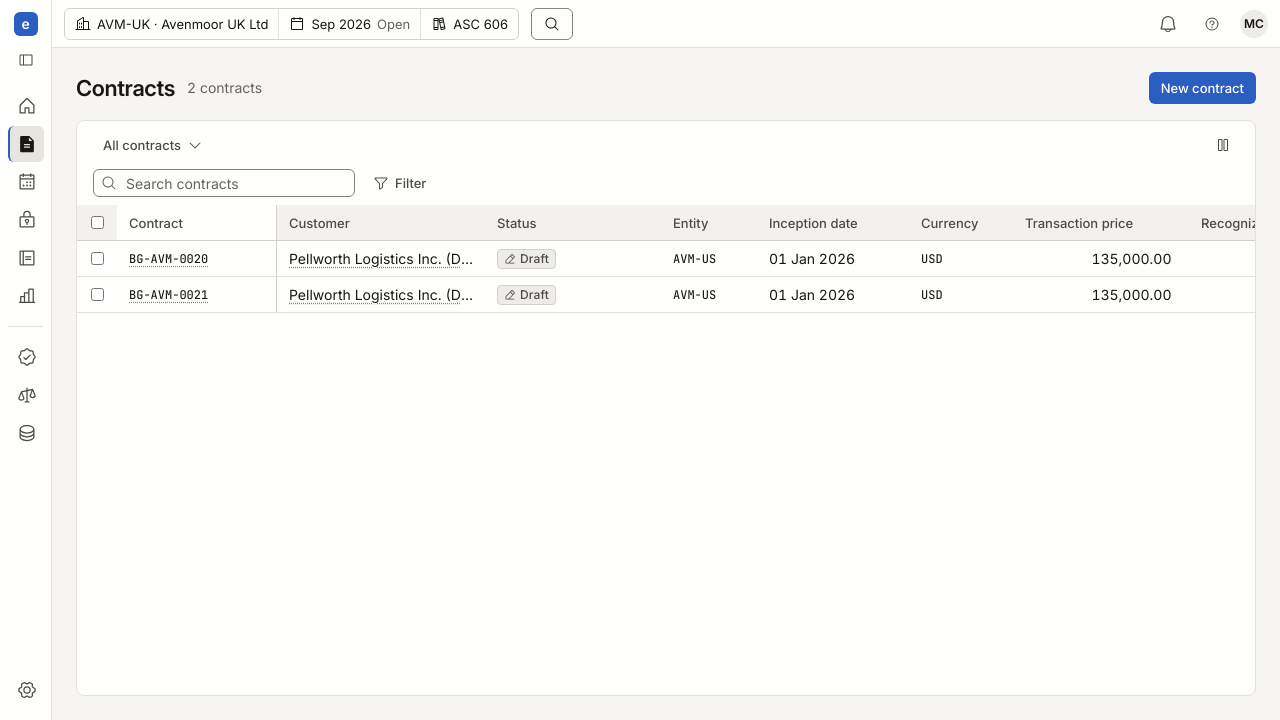
Test: SF-02 contracts list › a bulk command that gets no answer goes out under the same key when the action is run again
The width and height of the screenshot is (1280, 720).
Click the checkbox named "Select loaded rows" at (97, 222), box x1=90 y1=216 x2=104 y2=229
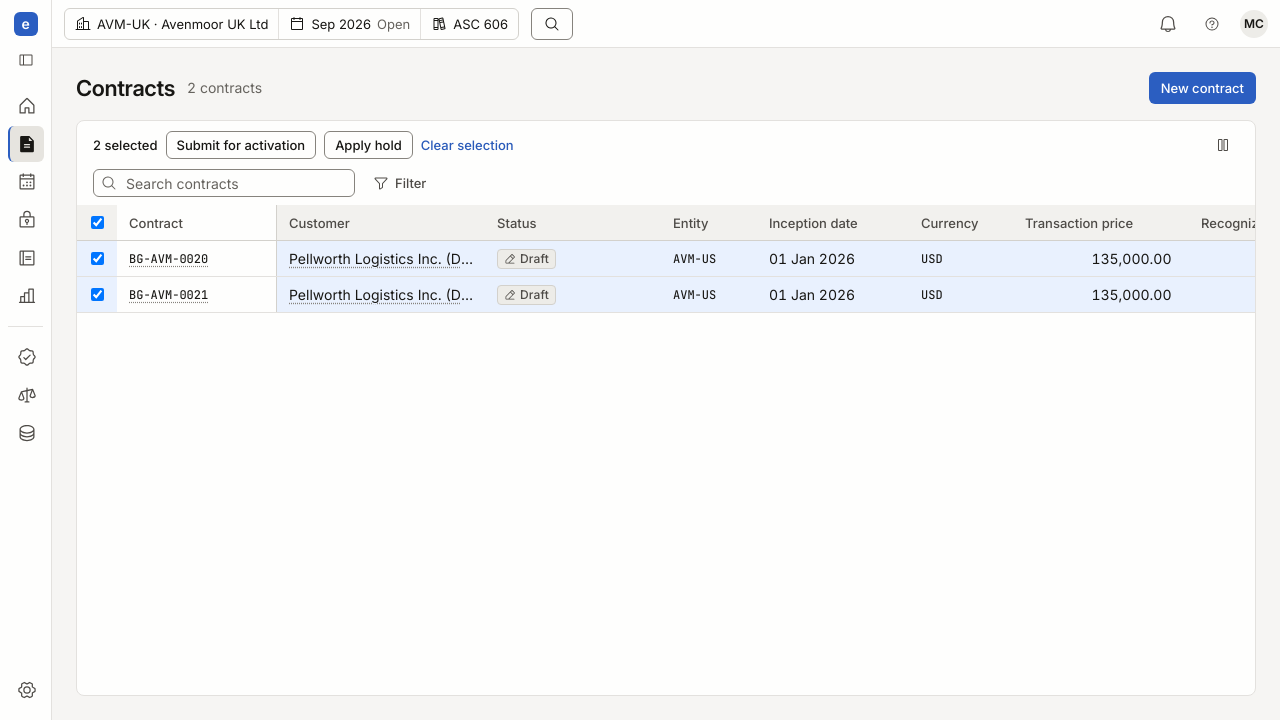
Click the button "Submit for activation" at (241, 145), box x1=166 y1=131 x2=316 y2=159
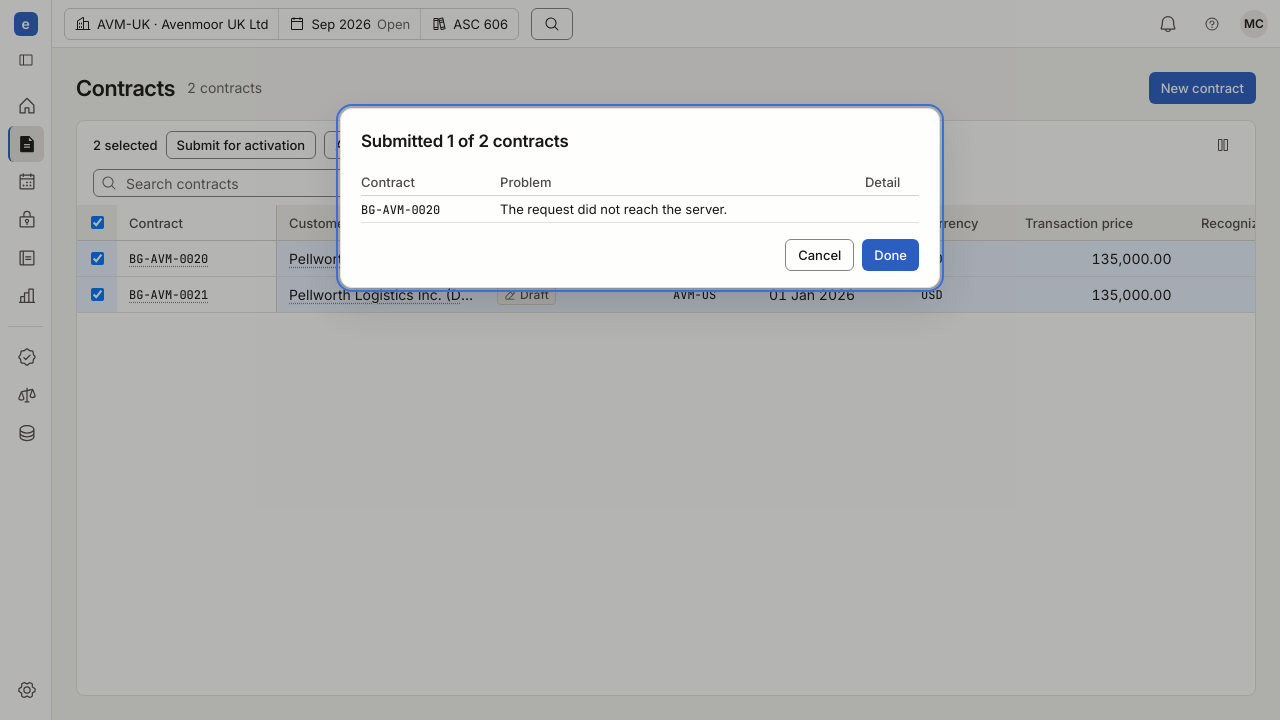
Click the button "Done" at (891, 255), box x1=862 y1=239 x2=919 y2=271
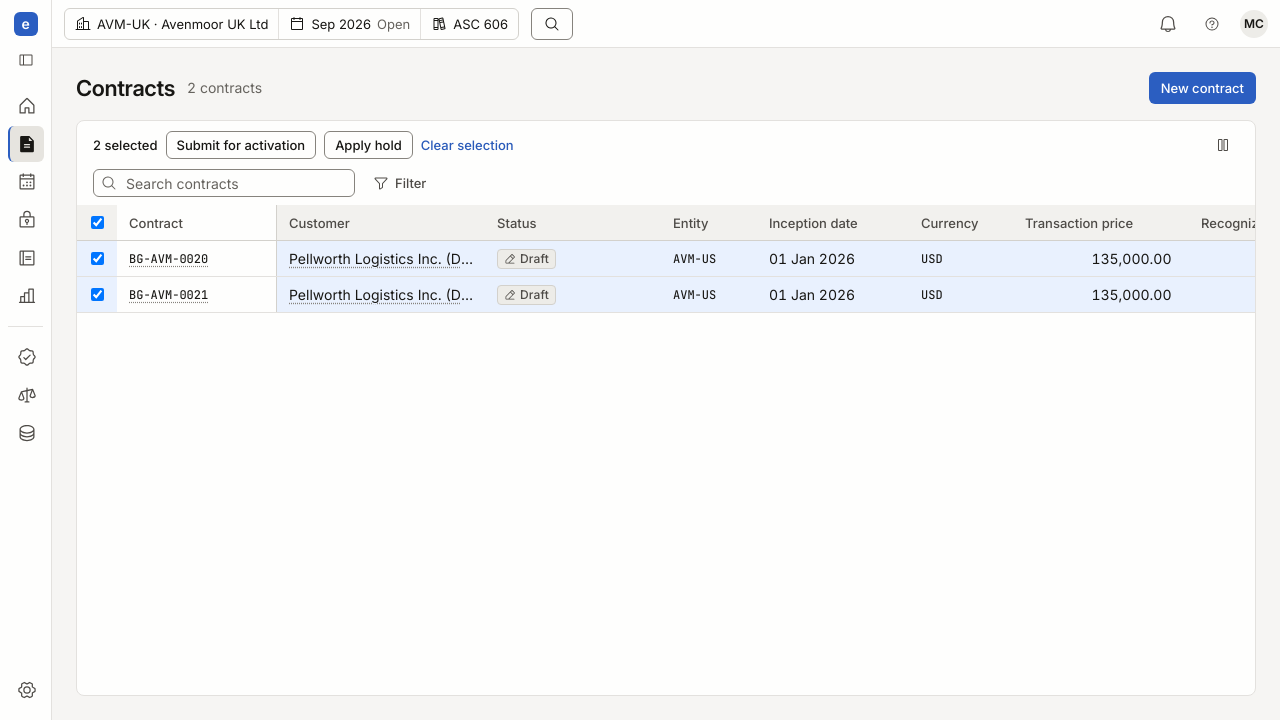
Expected: the heading "Submitted 1 of 2 contracts" is gone
Click the button "Submit for activation" at (241, 145), box x1=166 y1=131 x2=316 y2=159
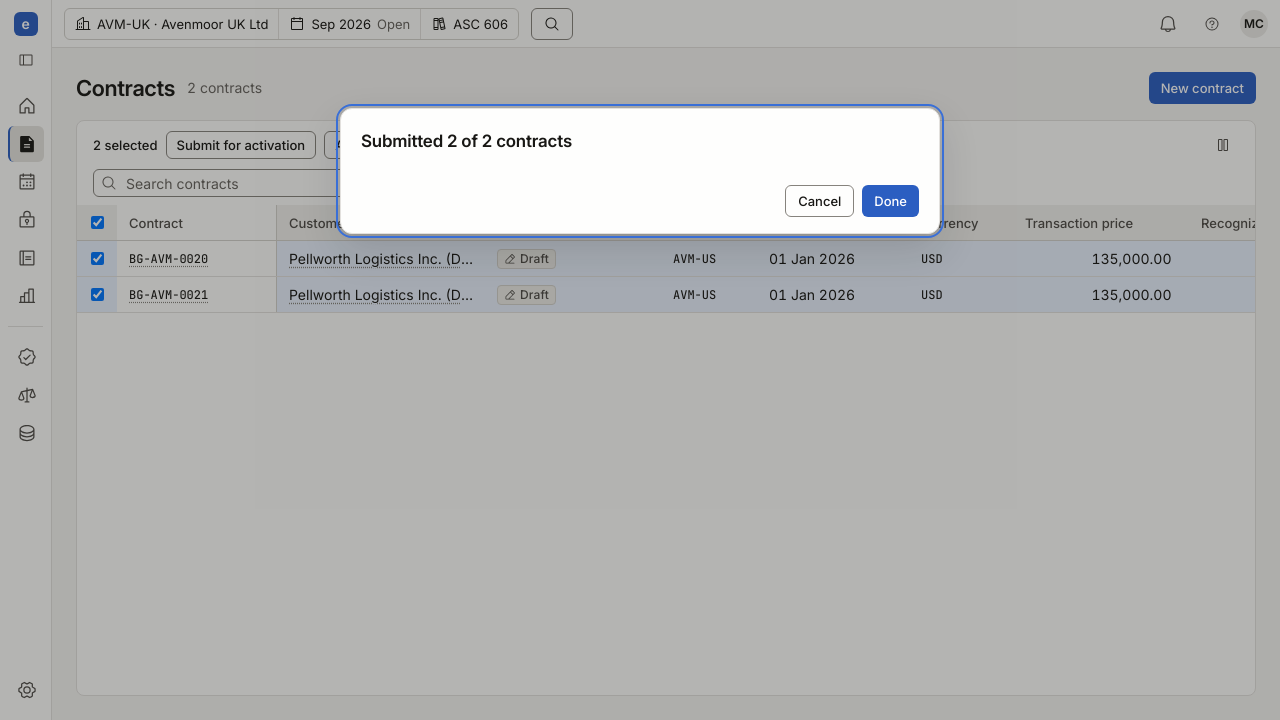
Click the button "Done" at (891, 201), box x1=862 y1=185 x2=919 y2=217
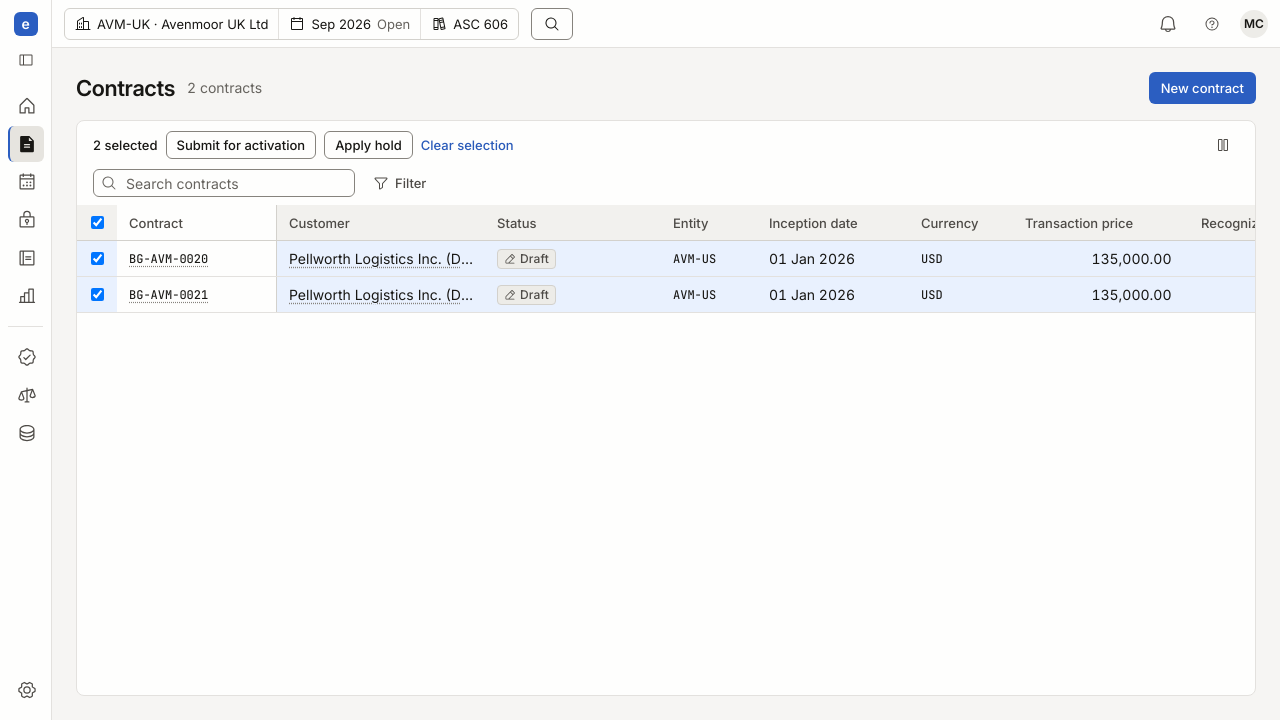
Expected: the heading "Submitted 2 of 2 contracts" is gone
